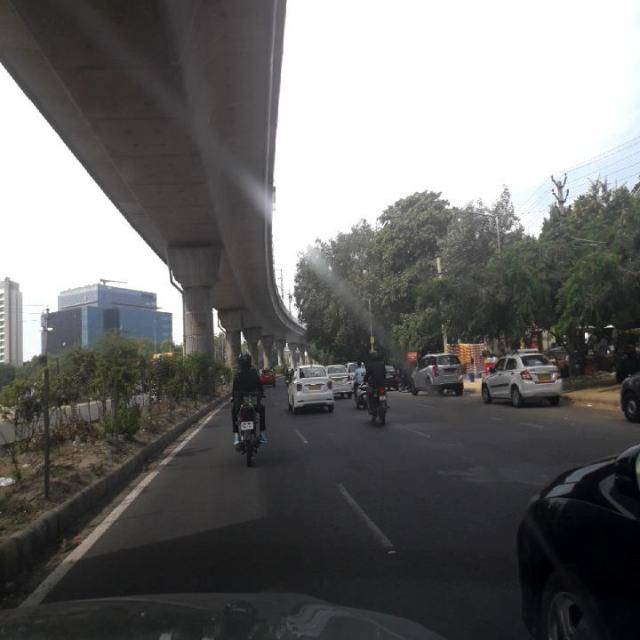crack: (389, 451, 513, 576)
